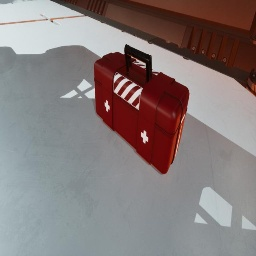FirstAidBox ,: (94, 44, 190, 174)
